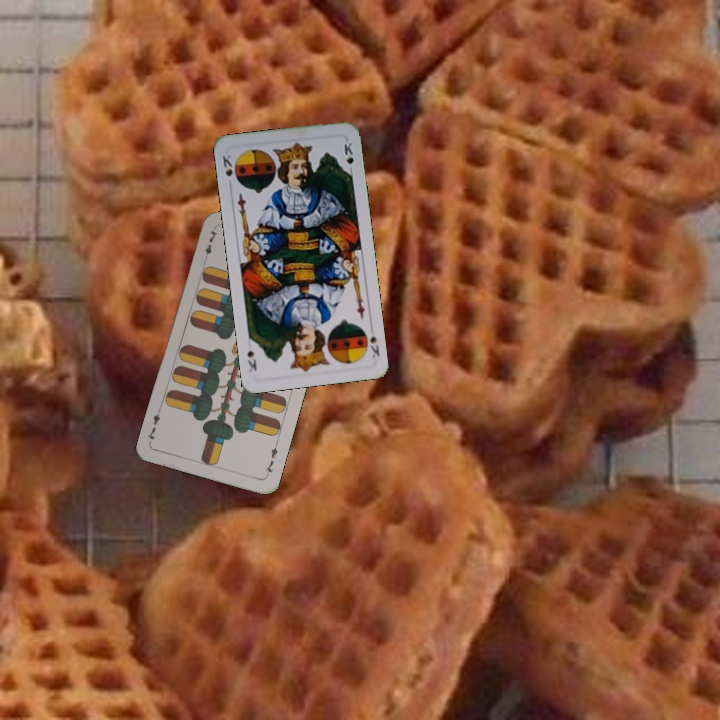E7: (199, 225, 220, 265), (261, 439, 280, 479)
SK: (360, 322, 383, 359), (218, 151, 235, 179)
